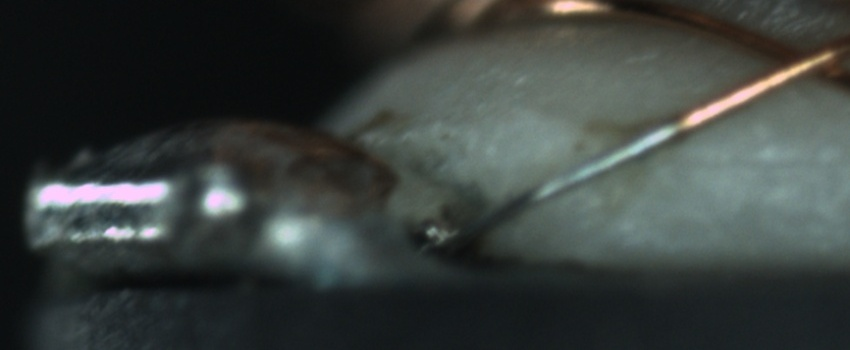CL: (746, 27, 841, 94)
DL: (668, 131, 850, 195)
TS: (427, 121, 680, 260)
